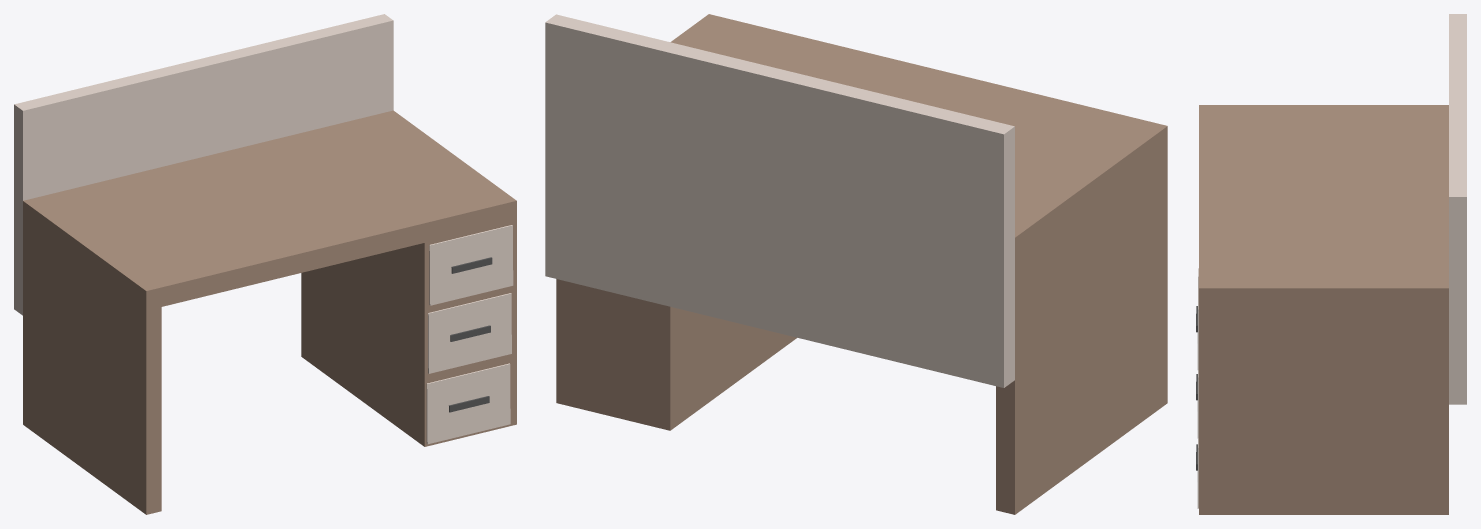
The model's file is Table_21.fbx.
3 views of the same model, side by side, from view 1: azimuth 30°, elevation 25°; view 2: azimuth 150°, elevation 25°; view 3: azimuth 270°, elevation 25° (orthographic). The views are drawn at different scales.
Parts seen in each view (by area): view 1: Table_21; view 2: Table_21; view 3: Table_21.
Boxes of the visible parts, x1,y1,x2,y2 form: Table_21: (14,14,516,514); Table_21: (545,14,1167,514); Table_21: (1196,14,1466,514).
Size of the model in its own units: 188 by 118 by 152.
